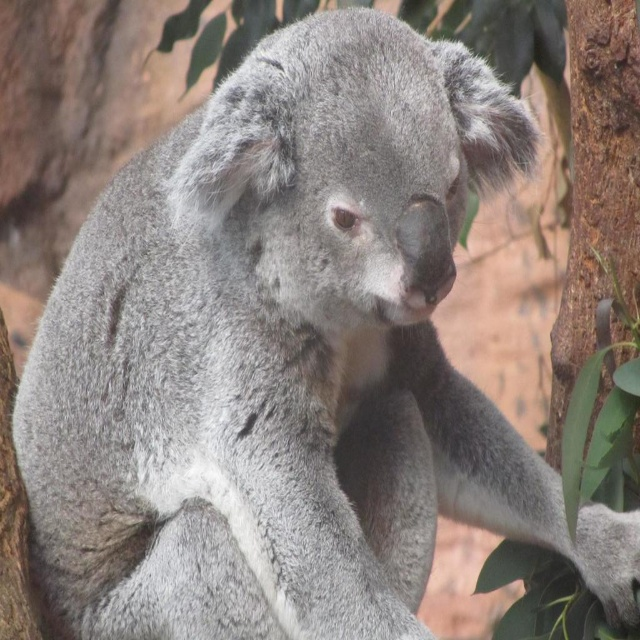Koala: (10, 6, 640, 639)
